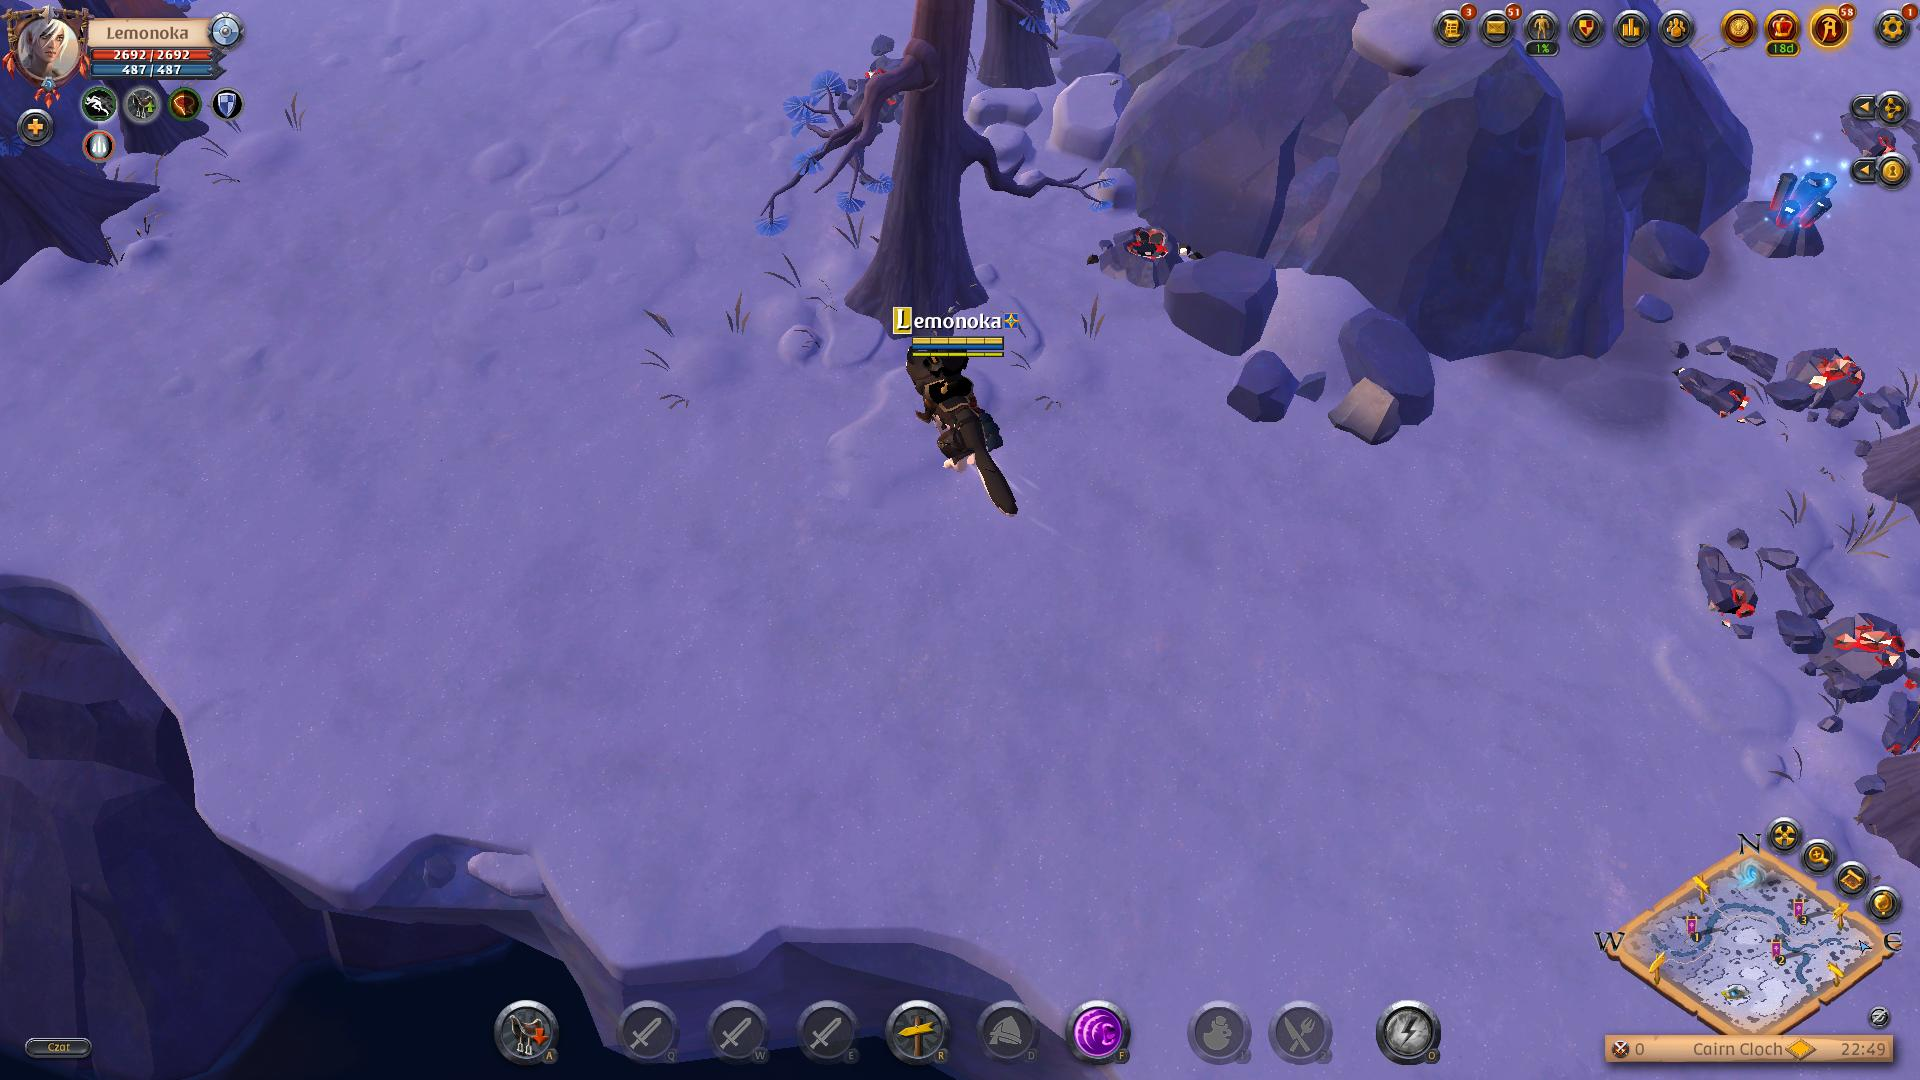ore tier 5: (1735, 160, 1837, 265)
rock tier 1: (1325, 361, 1420, 458)
